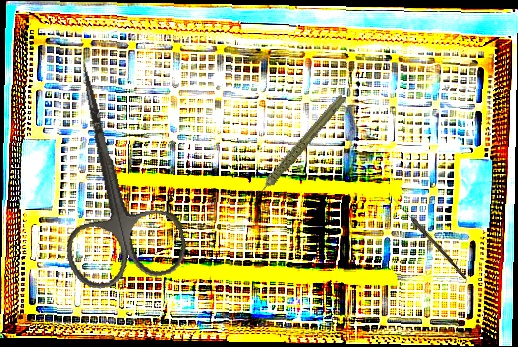Handpiece: (232, 92, 363, 201)
Iris Scissors: (29, 51, 191, 294)
Surgical Spoon: (391, 197, 469, 280)
